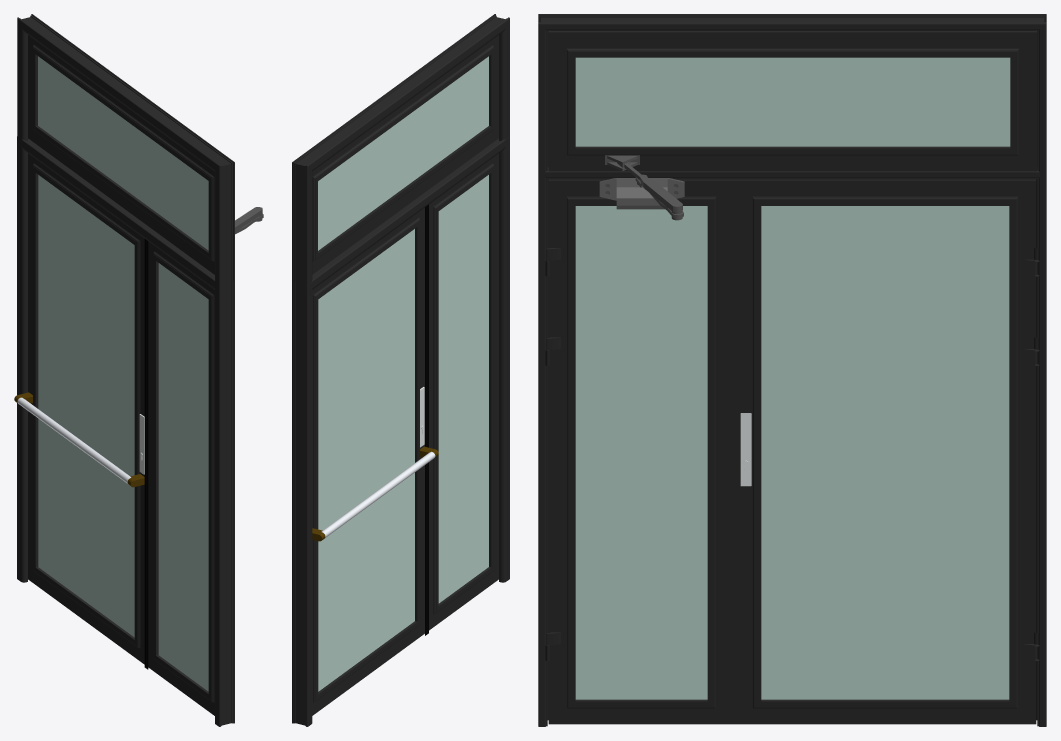
The model's file is Door_panic.fbx.
3 views of the same model, side by side, from view 1: azimuth 30°, elevation 25°; view 2: azimuth 150°, elevation 25°; view 3: azimuth 270°, elevation 25° (orthographic). The views are drawn at different scales.
Parts seen in each view (by area): view 1: DoorPanic, Glass02, Glass, DoorOpenable, Handle; view 2: DoorPanic, Glass02, Glass, DoorOpenable, Handle; view 3: Glass02, Glass, DoorPanic, DoorOpenable.
Part boxes in pixels (x1=…): DoorPanic: x1=17, y1=14, x2=263, y2=726; Glass02: x1=38, y1=175, x2=134, y2=637; Glass: x1=38, y1=56, x2=208, y2=691; DoorOpenable: x1=28, y1=153, x2=144, y2=664; Handle: x1=14, y1=392, x2=144, y2=487; DoorPanic: x1=292, y1=14, x2=509, y2=726; Glass02: x1=318, y1=229, x2=414, y2=691; Glass: x1=318, y1=56, x2=488, y2=603; DoorOpenable: x1=312, y1=207, x2=424, y2=715; Handle: x1=312, y1=446, x2=438, y2=541; Glass02: x1=761, y1=206, x2=1009, y2=699; Glass: x1=575, y1=57, x2=1010, y2=699; DoorPanic: x1=538, y1=14, x2=1046, y2=726; DoorOpenable: x1=734, y1=179, x2=1038, y2=724.
Size of the model in its own units: 48.75 by 243 by 159.
